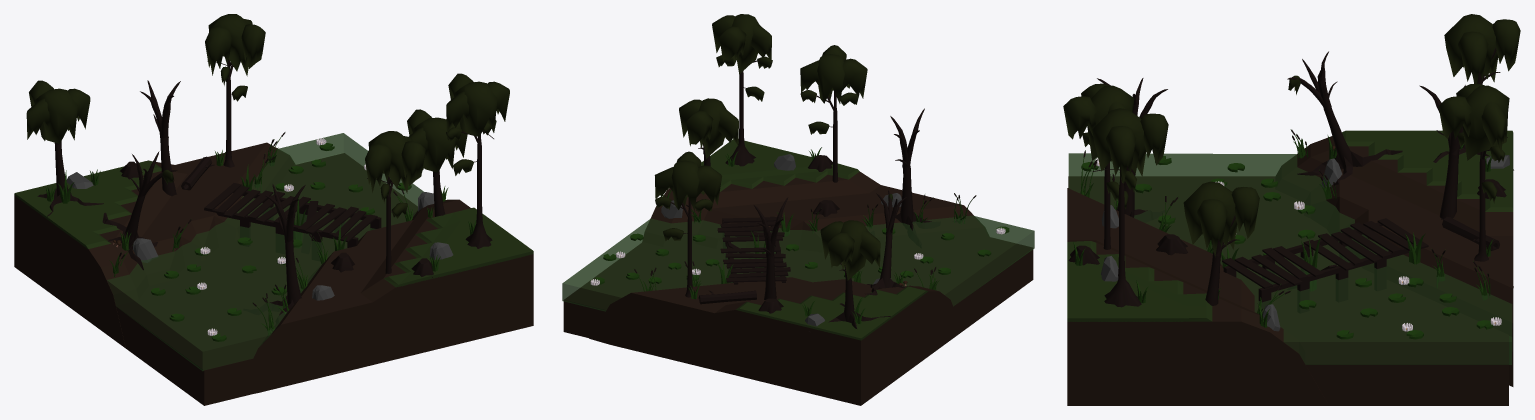
File: Swamp fbx test.fbx
3 renders of one model, left to right at view 1: azimuth 30°, elevation 25°; view 2: azimuth 150°, elevation 25°; view 3: azimuth 270°, elevation 25°, orthographic. The views are drawn at different scales.
Visible parts, largest first — view 1: Box026, Box023, Box024, Box025, Boom 1, Boom 3, Boom 011, Boom 010, Boom 007, Cylinder022, Cylinder007, Cylinder009 (+6 smaller); view 2: Box026, Box023, Box024, Box025, Boom 1, Boom 010, Boom 011, Boom 007, Boom 3, Cylinder007, Cylinder022, Cylinder009 (+5 smaller); view 3: Box026, Box024, Box025, Box023, Boom 011, Boom 1, Boom 007, Boom 3, Cylinder022, Boom 010, Cylinder009, Box007 (+20 smaller).
Part boxes in pixels (x1,y1,x2,y2): Box026: (14, 142, 533, 396); Box023: (14, 194, 533, 397); Box024: (107, 133, 424, 371); Box025: (114, 153, 417, 405); Boom 1: (446, 73, 509, 141); Boom 3: (26, 80, 90, 143); Boom 011: (205, 14, 265, 76); Boom 010: (365, 131, 425, 193); Boom 007: (407, 109, 467, 172); Cylinder022: (151, 143, 411, 341); Cylinder007: (243, 184, 305, 323); Cylinder009: (102, 151, 177, 270); Box026: (589, 139, 988, 405); Box023: (589, 291, 961, 405); Box024: (562, 215, 1034, 311); Box025: (563, 237, 1033, 337); Boom 1: (712, 14, 772, 74); Boom 010: (800, 45, 867, 103); Boom 011: (654, 151, 721, 210); Boom 007: (679, 98, 738, 158); Boom 3: (820, 220, 880, 280); Cylinder007: (870, 108, 956, 248); Cylinder022: (592, 226, 1009, 284); Cylinder009: (864, 190, 910, 295); Box026: (1067, 130, 1513, 405); Box024: (1068, 153, 1512, 364); Box025: (1068, 176, 1508, 405); Box023: (1067, 318, 1512, 405); Boom 011: (1438, 83, 1509, 162); Boom 1: (1092, 108, 1168, 183); Boom 007: (1183, 181, 1259, 257); Boom 3: (1444, 14, 1520, 83); Cylinder022: (1081, 156, 1493, 339); Boom 010: (1063, 83, 1134, 160); Cylinder009: (1287, 51, 1402, 184); Box007: (1258, 247, 1408, 313).
Bounding box in the file's own units: 339 × 227 × 343.
